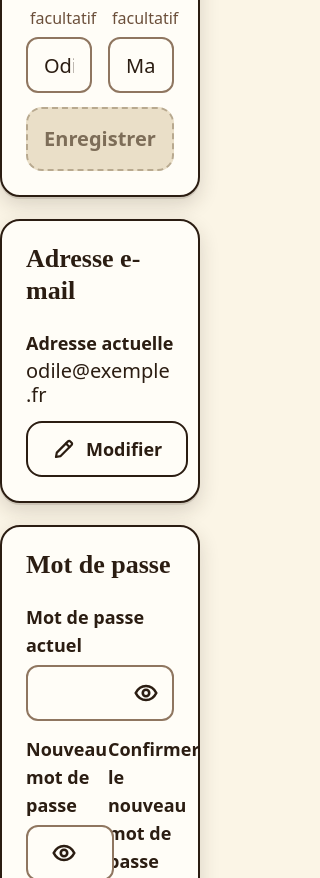
Scenario: AccountScreen › the e-mail card › marks the card as changed once something is typed
(page scrolled)
Click the button "Modifier".
click(107, 449)  # box [26, 421, 188, 477]
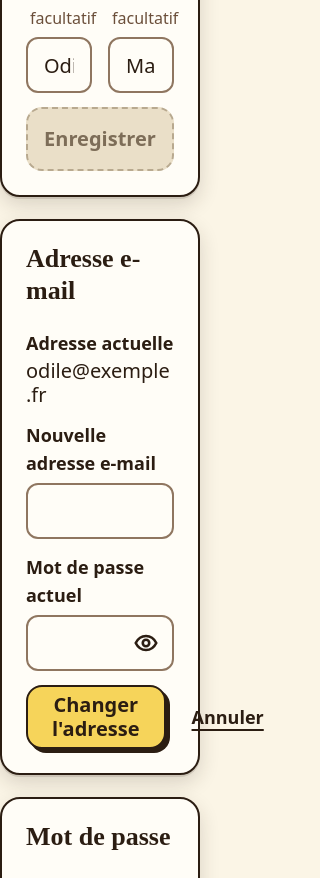
Type "n" into the field labelled "Nouvelle adresse e-mail".
click(100, 511); type("n")  # box [26, 483, 174, 539]
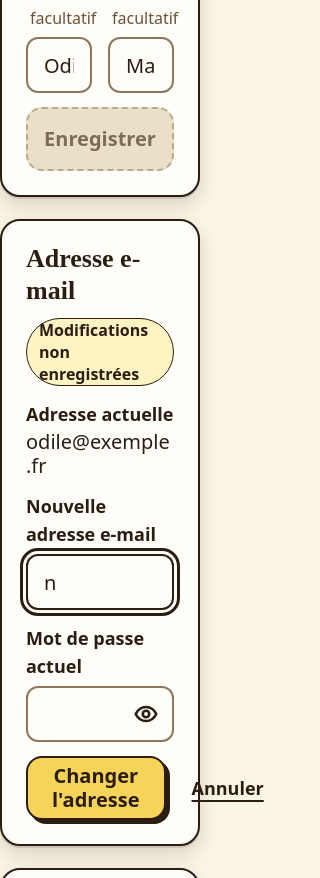
Check: the text "Modifications non enregistrées" is shown, box [26, 318, 174, 386]
